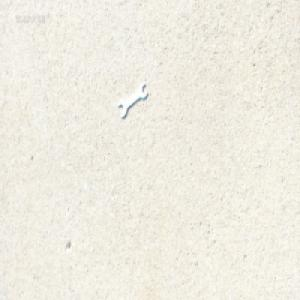Wrench: (118, 81, 148, 117)
